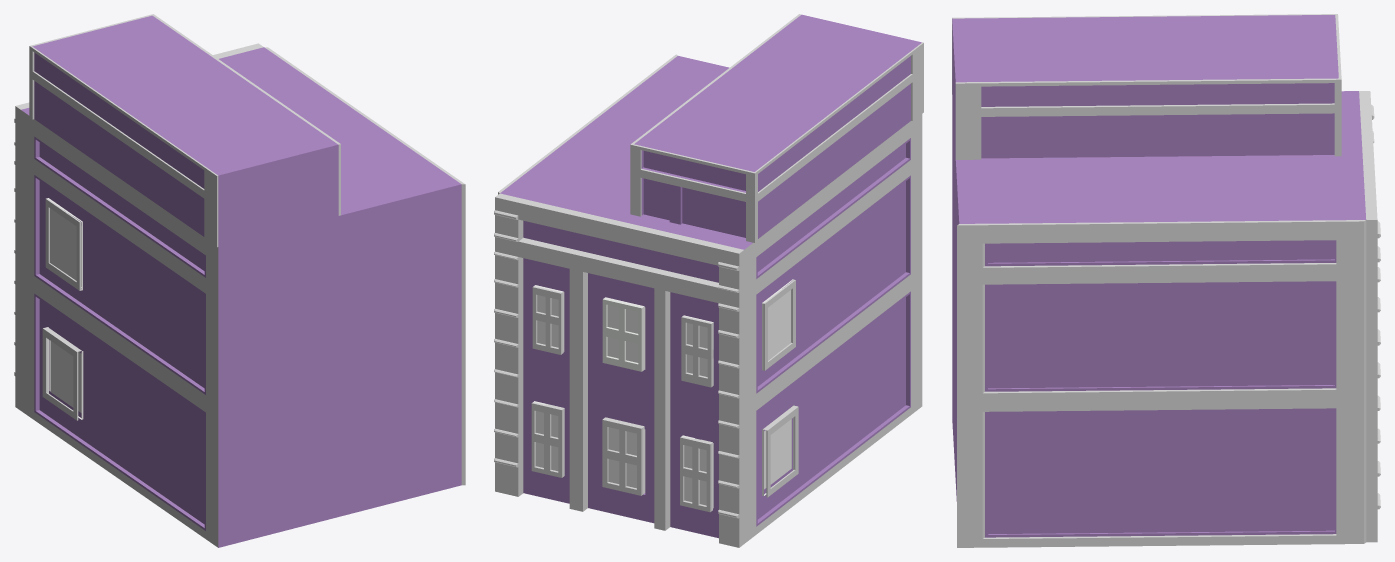
File: purplehouse.glb
3 renders of one model, left to right at view 1: azimuth 30°, elevation 25°; view 2: azimuth 150°, elevation 25°; view 3: azimuth 270°, elevation 25°, orthographic. The views are drawn at different scales.
Visible parts, largest first — view 1: 建物1.001, 建物1.側面.001, 白の枠.001, 建物1 白.001, 側面 窓下.001, 側面 窓上.001, 側面 窓枠下.001, 側面 窓枠上.001; view 2: 建物1.001, 建物1 白.001, 建物1.側面.001, 白の枠.001, 真ん中下 窓枠.001, 窓枠.013, 左下 窓枠.001, 右下 窓枠.001, 右上 窓枠.003, 側面 窓上.001, 側面 窓下.001, 右上 窓枠.002 (+8 smaller); view 3: 建物1.001, 白の枠.001, 建物1 白.001.
Boxes of the visible parts, bbox=[...] form: 建物1.001: bbox=[21, 15, 461, 547]; 建物1.側面.001: bbox=[20, 110, 218, 547]; 白の枠.001: bbox=[29, 14, 465, 485]; 建物1 白.001: bbox=[14, 43, 263, 410]; 側面 窓下.001: bbox=[47, 327, 83, 419]; 側面 窓上.001: bbox=[47, 198, 82, 290]; 側面 窓枠下.001: bbox=[42, 327, 81, 420]; 側面 窓枠上.001: bbox=[45, 198, 81, 290]; 建物1.001: bbox=[500, 14, 921, 538]; 建物1 白.001: bbox=[494, 193, 744, 547]; 建物1.側面.001: bbox=[744, 114, 922, 543]; 白の枠.001: bbox=[498, 14, 923, 369]; 真ん中下 窓枠.001: bbox=[602, 417, 643, 495]; 窓枠.013: bbox=[602, 298, 642, 371]; 左下 窓枠.001: bbox=[531, 402, 564, 477]; 右下 窓枠.001: bbox=[680, 436, 712, 512]; 右上 窓枠.003: bbox=[681, 316, 713, 387]; 側面 窓上.001: bbox=[762, 279, 793, 370]; 側面 窓下.001: bbox=[762, 405, 794, 496]; 右上 窓枠.002: bbox=[532, 286, 562, 354]; 建物1.001: bbox=[952, 15, 1366, 537]; 白の枠.001: bbox=[952, 14, 1366, 547]; 建物1 白.001: bbox=[1359, 91, 1380, 542].
Bounding box in the file's own units: 42.99 × 59.22 × 57.68.
